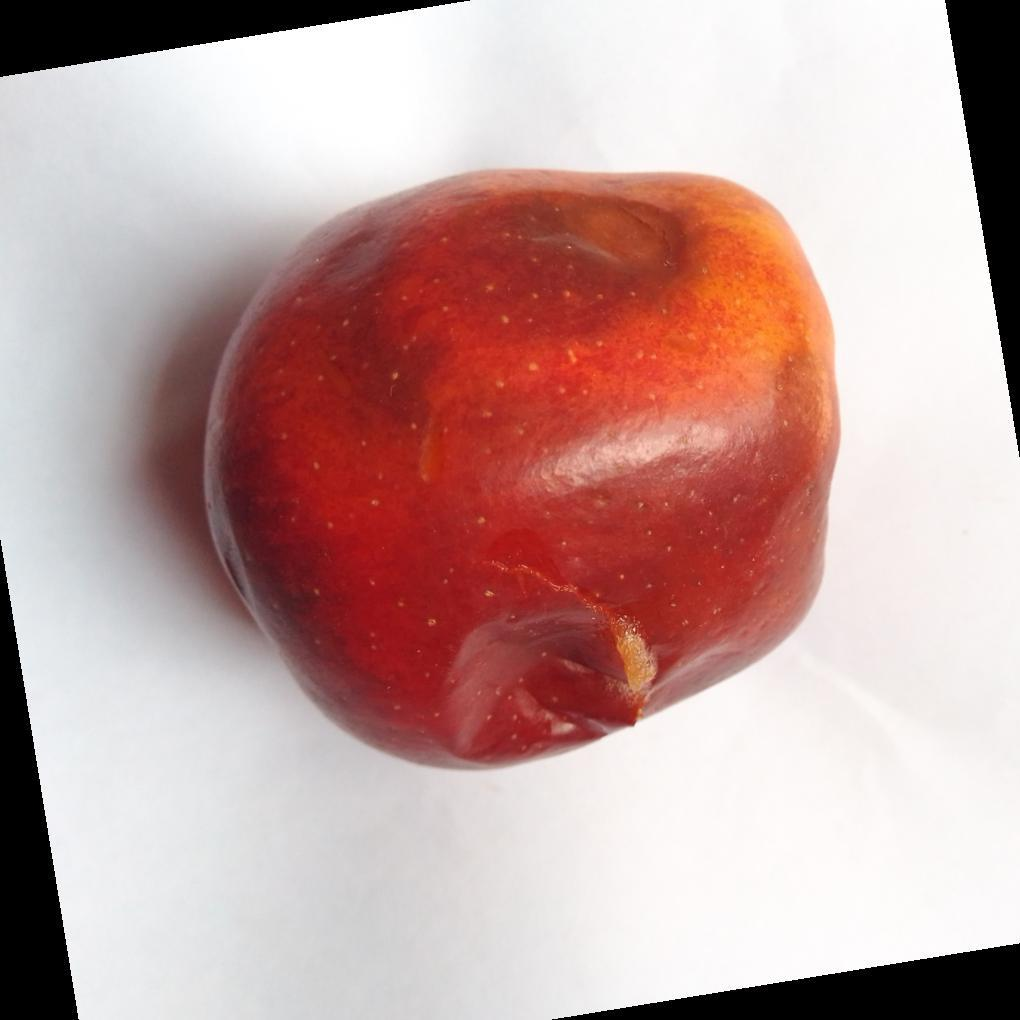FreshOrange: (202, 169, 842, 775)
